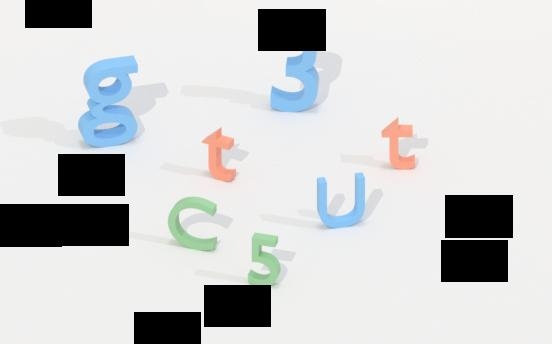3: (267, 21, 322, 114)
5: (244, 230, 284, 288)
c: (168, 192, 222, 252)
g: (76, 52, 144, 150)
t: (380, 114, 419, 175), (200, 126, 240, 183)
u: (312, 167, 371, 228)
